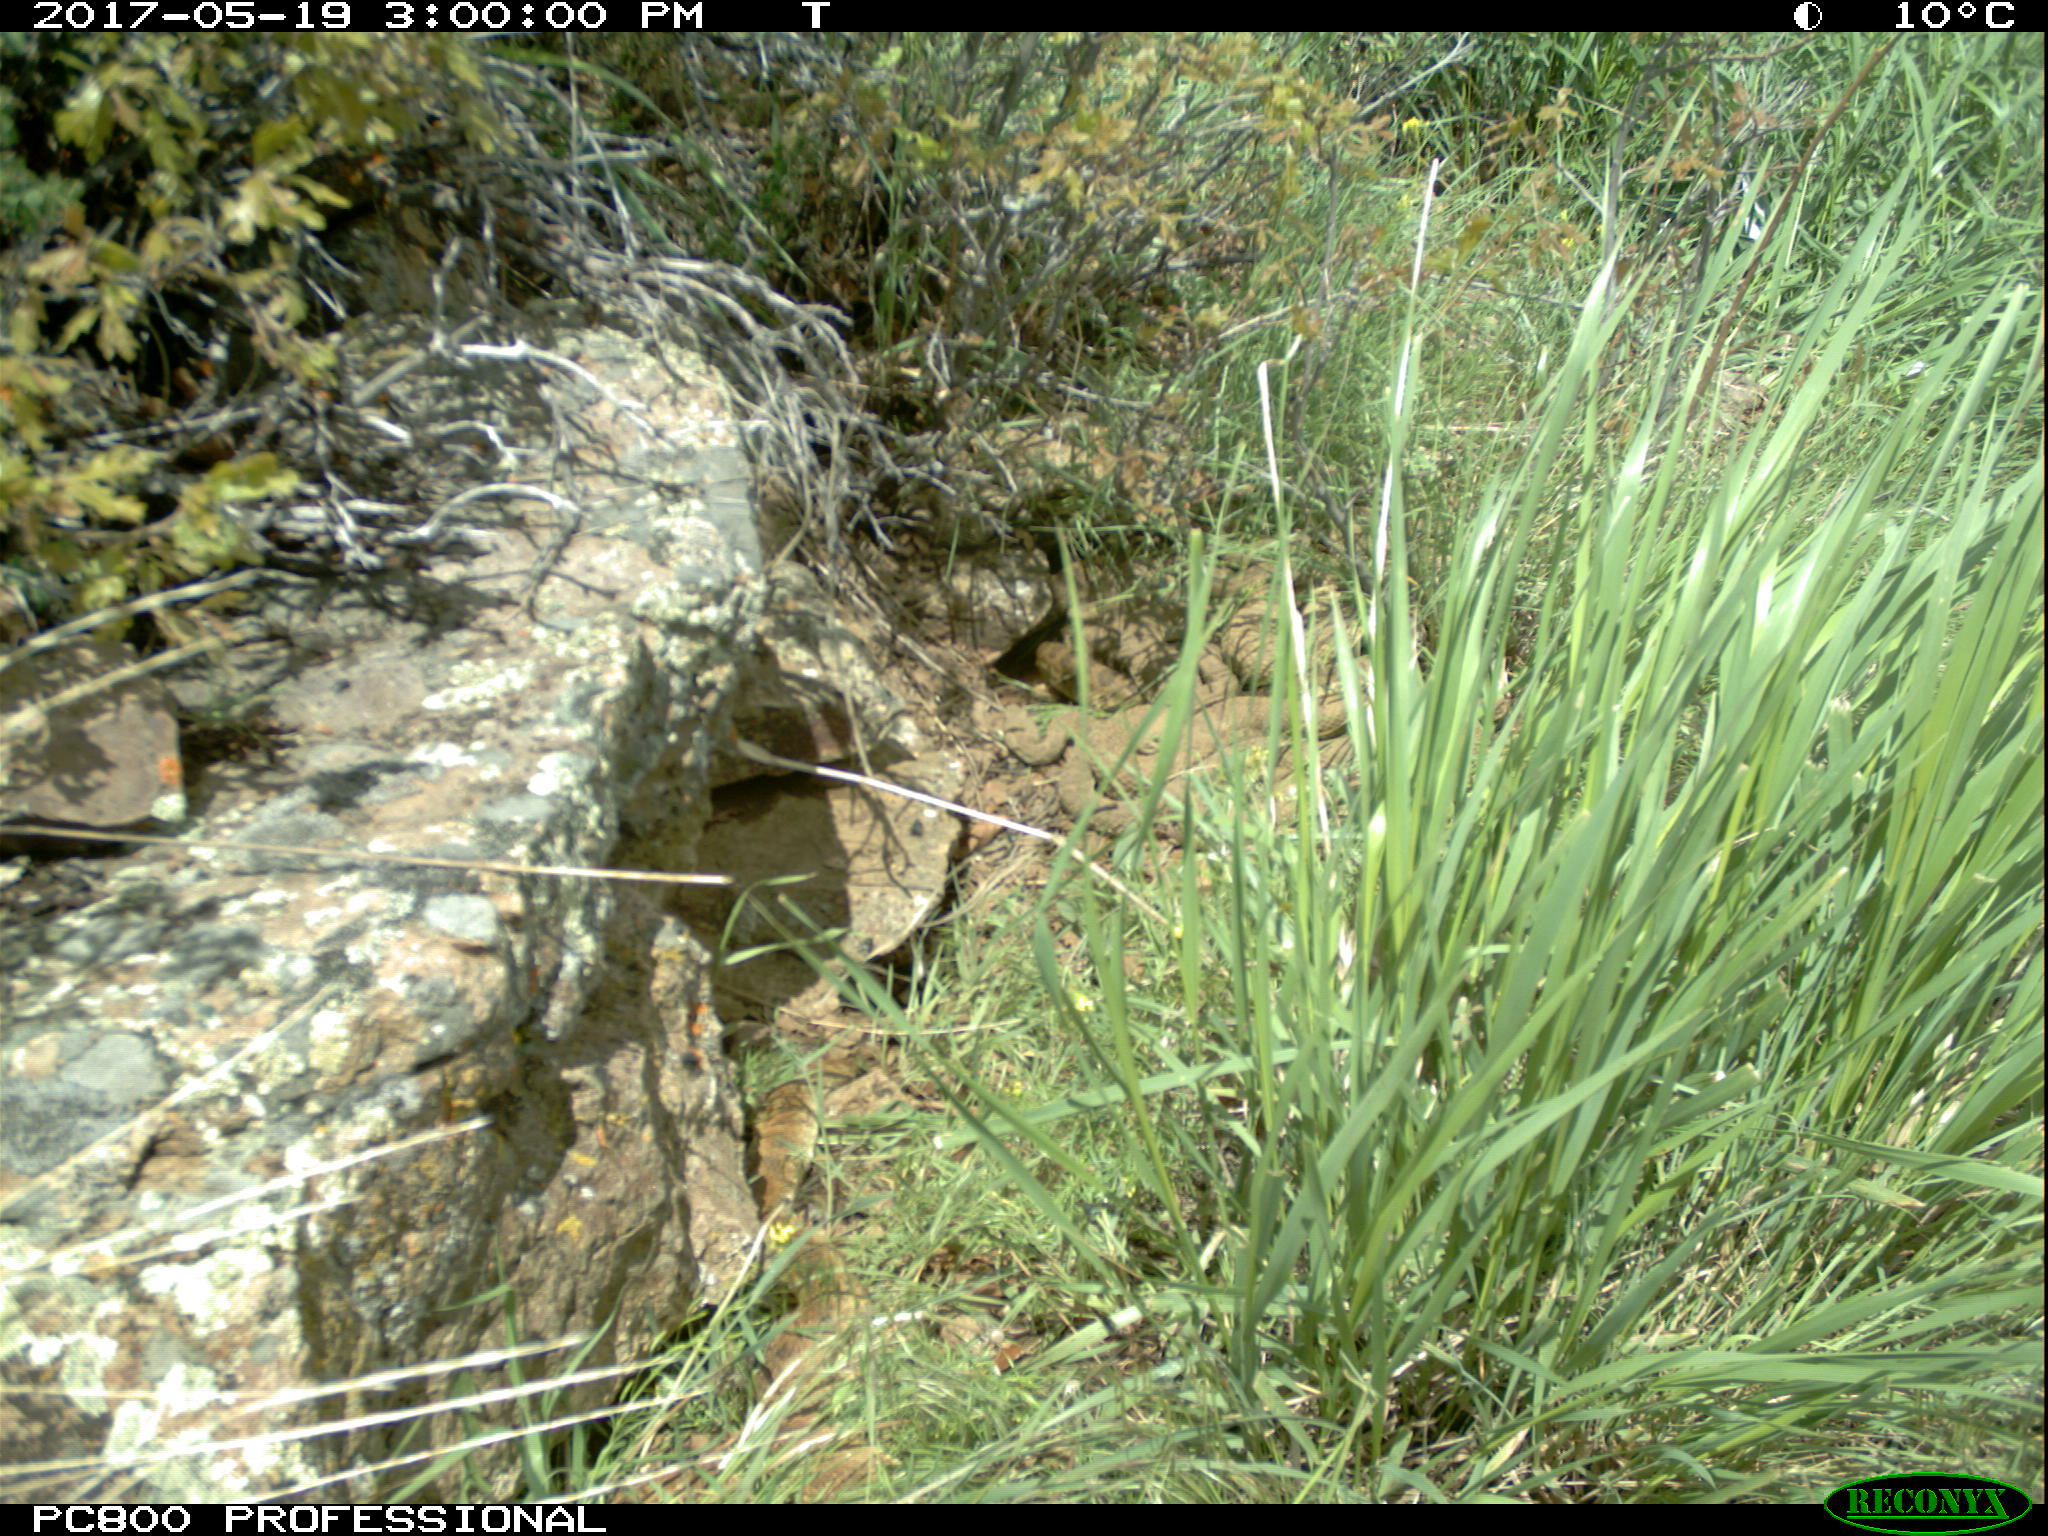snake: (735, 1063, 851, 1471), (1050, 611, 1285, 744), (1009, 712, 1247, 842), (1214, 550, 1359, 741)
